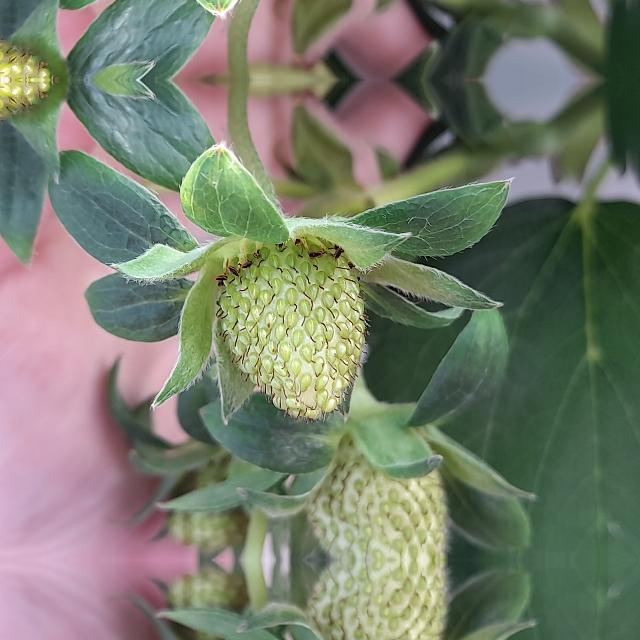Health_25: (257, 418, 479, 558), (216, 235, 370, 423), (257, 562, 479, 640)
